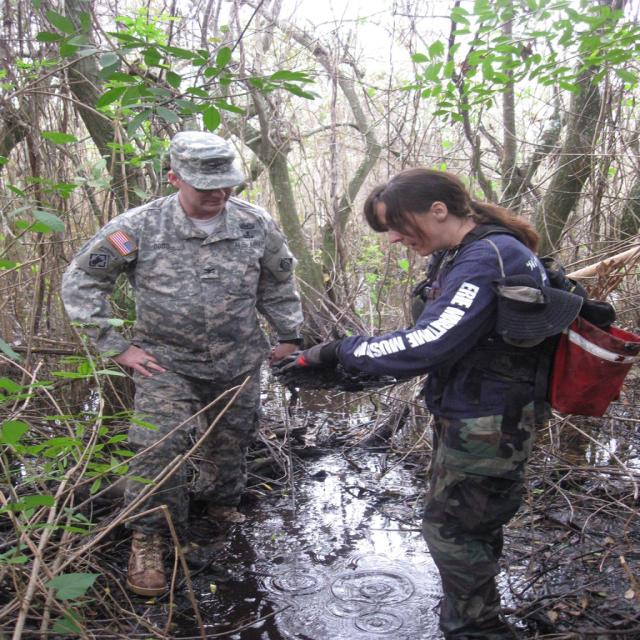Person: (271, 167, 552, 640), (61, 130, 303, 596)
